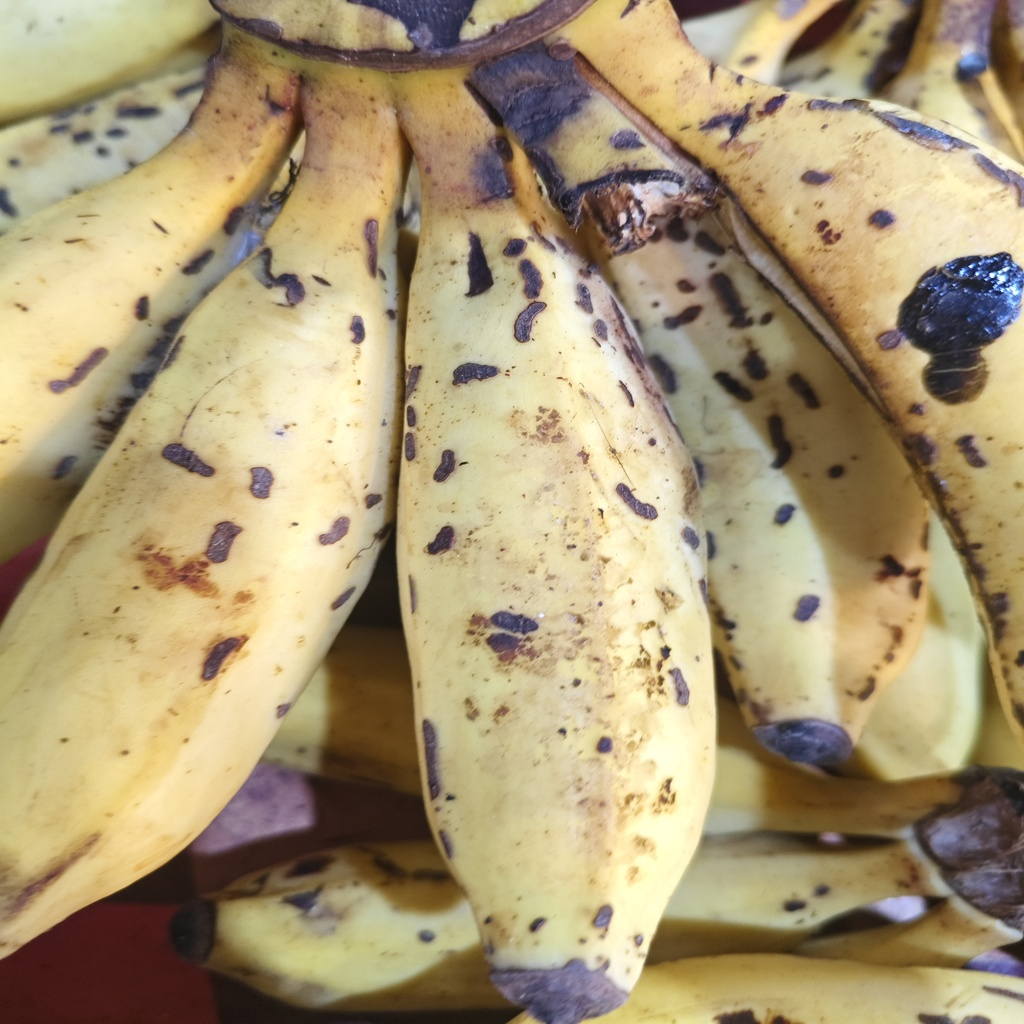unhealthy: (1, 207, 402, 963), (398, 196, 711, 997)
